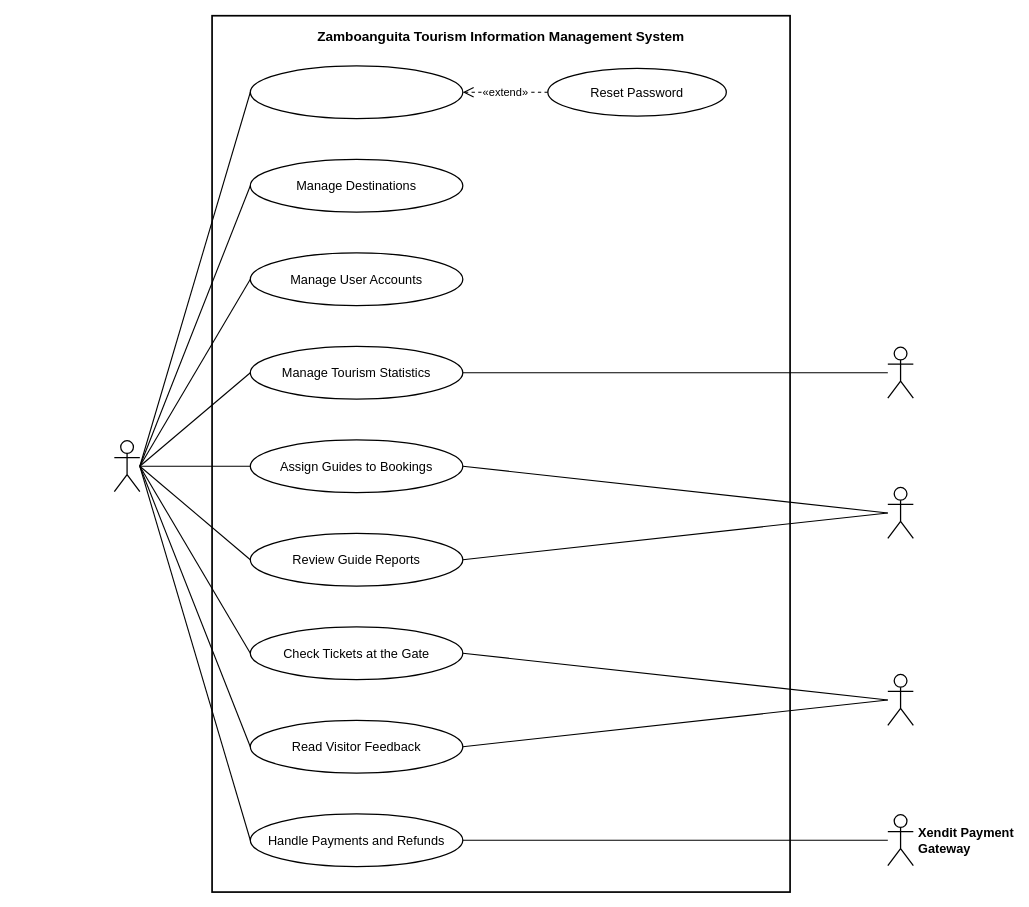
This 1029x907 diagram has some shape labels left out. The box of each missing label's shape, as (x1, y1, x2, y2) in pixels:
Establishment Manager: (887, 346, 914, 398)
Log In: (249, 65, 463, 119)
Tourism Officer: (113, 440, 140, 492)
Tourist Guide: (887, 486, 914, 539)
Visitor: (887, 673, 914, 726)
